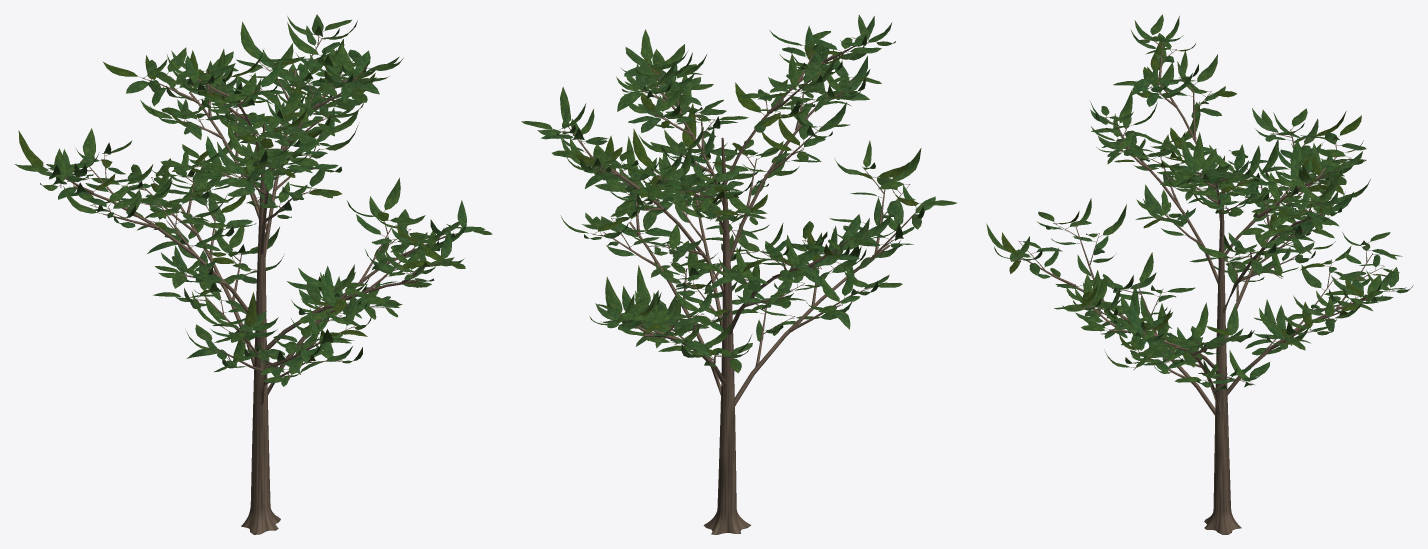
The model's file is zelkova.glb.
3 views of the same model, side by side, from view 1: azimuth 30°, elevation 25°; view 2: azimuth 150°, elevation 25°; view 3: azimuth 270°, elevation 25° (orthographic). The views are drawn at different scales.
Visible parts, largest first — view 1: Foliage, Bark; view 2: Foliage, Bark; view 3: Foliage, Bark.
Boxes of the visible parts, x1,y1,x2,y2 form: Foliage: [14, 14, 492, 386]; Bark: [46, 31, 472, 534]; Foliage: [521, 14, 956, 373]; Bark: [553, 39, 926, 534]; Foliage: [986, 14, 1412, 390]; Bark: [1013, 36, 1395, 534].
Bounding box in the file's own units: 1.87 × 2.45 × 2.07.
Materials: 2 (2 with a texture image).
